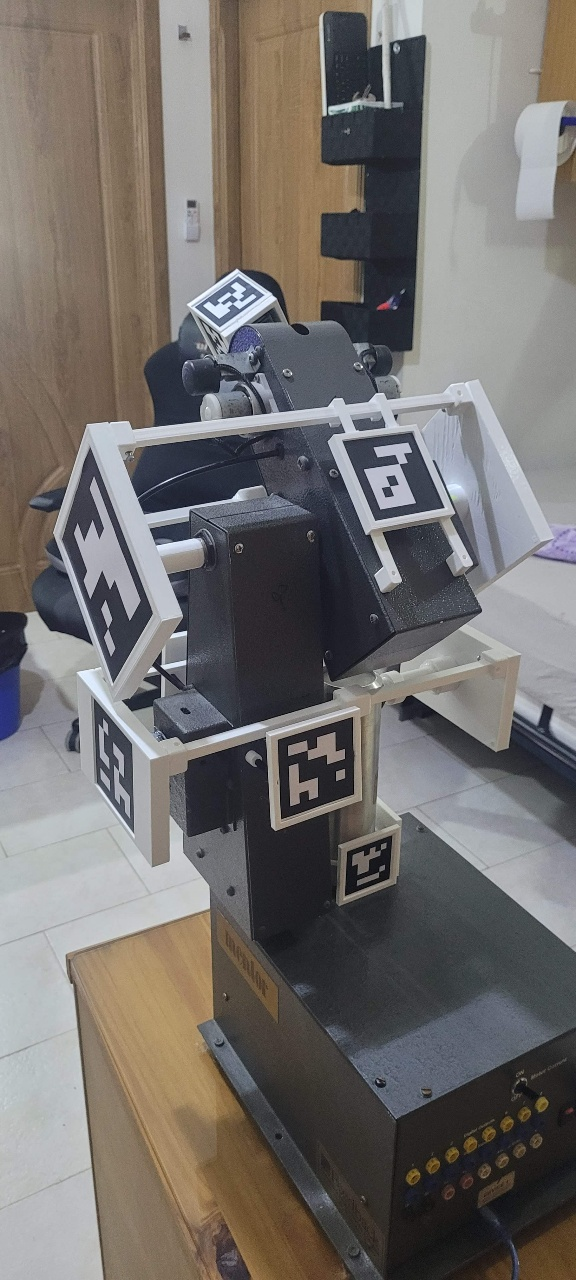Robot: (26, 237, 565, 1085)
